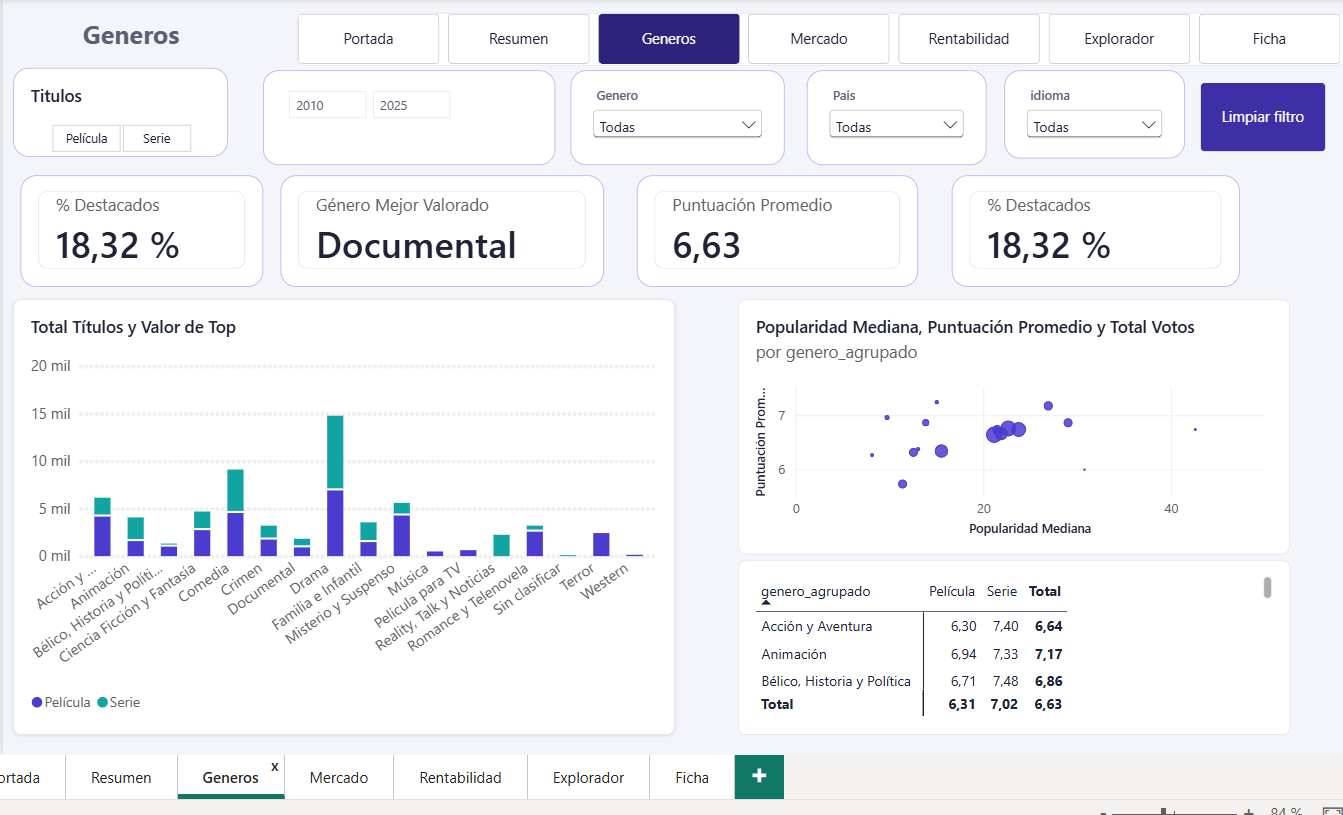

Layout of this report page (visuals, bound fields, positions):
{"tool":"powerbi","page":{"name":"Generos","canvas":[1280,720],"ordinal":2},"visuals":[{"type":"textbox","box":[10,0,238.3,63.3],"z":0},{"type":"actionButton","box":[1140,80,119.1,65.5],"z":1000},{"type":"pageNavigator","box":[280,13.3,1000,50],"z":2000},{"type":"lineStackedColumnComboChart","title":"Total Títulos y Valor de Top ","fields":{"Category":["dim_genero.genero_agrupado"],"Series":["fact_contenidos.tipo_es"],"Y":["_Medidas.Total Títulos"]},"box":[10,286,630,415],"z":3000},{"type":"slicer","fields":{"Values":["dim_idioma.idioma"]},"box":[954,68,172,84],"z":4000},{"type":"slicer","fields":{"Values":["dim_pais.pais_nombre"]},"box":[766,68,171,90],"z":5000},{"type":"slicer","fields":{"Values":["dim_genero.genero_agrupado"]},"box":[541,68,204,90],"z":6000},{"type":"slicer","fields":{"Values":["fact_contenidos.release_year"]},"box":[248,68,278,90],"z":7000},{"type":"slicer","title":"Titulos","fields":{"Values":["fact_contenidos.tipo_es"]},"box":[10,66,205,85],"z":8000},{"type":"scatterChart","fields":{"Category":["dim_genero.genero_agrupado"],"Size":["_Medidas.Total Votos"],"X":["_Medidas.Popularidad Mediana"],"Y":["_Medidas.Puntuación Promedio"]},"box":[700.5,285.5,525.8,243],"z":9000},{"type":"cardVisual","fields":{"Data":["_Medidas.% Destacados"]},"box":[17,168,231,106],"z":10000},{"type":"cardVisual","fields":{"Data":["_Medidas.Género Mejor Valorado"]},"box":[264,168,308,106],"z":11000},{"type":"cardVisual","fields":{"Data":["_Medidas.Puntuación Promedio"]},"box":[604,168,268,106],"z":12000},{"type":"cardVisual","fields":{"Data":["_Medidas.% Destacados"]},"box":[903,168,274,106],"z":13000},{"type":"pivotTable","fields":{"Columns":["fact_contenidos.tipo_es"],"Rows":["dim_genero.genero_agrupado"],"Values":["_Medidas.Puntuación Promedio"]},"box":[700,535,526,166],"z":14000}]}

Visuals, with their boxes on the page's 1280x720 design canvas (x1, y1, x2, y2). These are canvas units, not pixel positions in the 1343x815 screenshot, which may show the page scaled, cropped or inside an application window:
textbox: x1=10, y1=0, x2=248, y2=63
actionButton: x1=1140, y1=80, x2=1259, y2=146
pageNavigator: x1=280, y1=13, x2=1280, y2=63
"Total Títulos y Valor de Top " lineStackedColumnComboChart: x1=10, y1=286, x2=640, y2=701
slicer - dim_idioma.idioma: x1=954, y1=68, x2=1126, y2=152
slicer - dim_pais.pais_nombre: x1=766, y1=68, x2=937, y2=158
slicer - dim_genero.genero_agrupado: x1=541, y1=68, x2=745, y2=158
slicer - fact_contenidos.release_year: x1=248, y1=68, x2=526, y2=158
"Titulos" slicer: x1=10, y1=66, x2=215, y2=151
scatterChart - dim_genero.genero_agrupado x _Medidas.Total Votos: x1=700, y1=286, x2=1226, y2=528
cardVisual - _Medidas.% Destacados: x1=17, y1=168, x2=248, y2=274
cardVisual - _Medidas.Género Mejor Valorado: x1=264, y1=168, x2=572, y2=274
cardVisual - _Medidas.Puntuación Promedio: x1=604, y1=168, x2=872, y2=274
cardVisual - _Medidas.% Destacados: x1=903, y1=168, x2=1177, y2=274
pivotTable - fact_contenidos.tipo_es x dim_genero.genero_agrupado: x1=700, y1=535, x2=1226, y2=701
